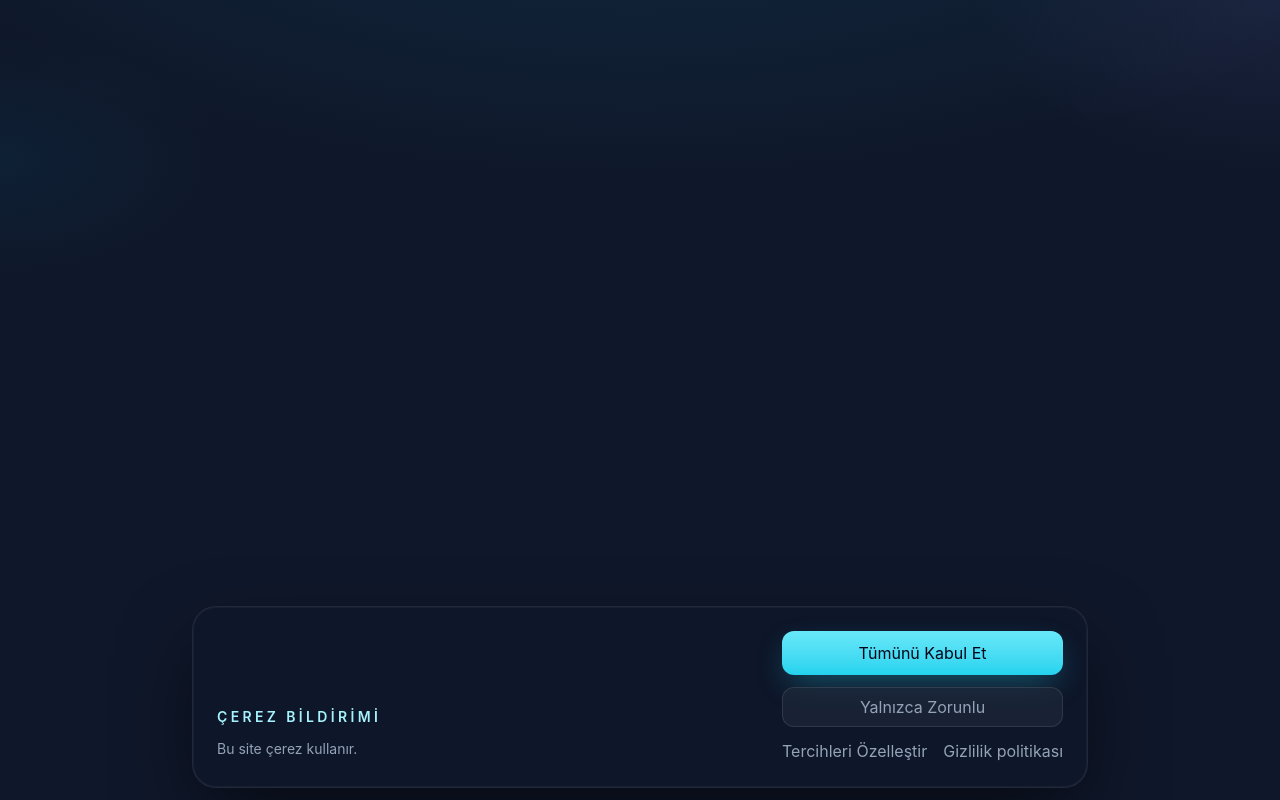
Scenario: CookieNotice — özelleştirme ekranı › "İptal" ana ekrana geri döner
This screenshot has width=1280, height=800.
Click the button "Tercihleri Özelleştir": point(855, 751) 782,739 -> 927,763
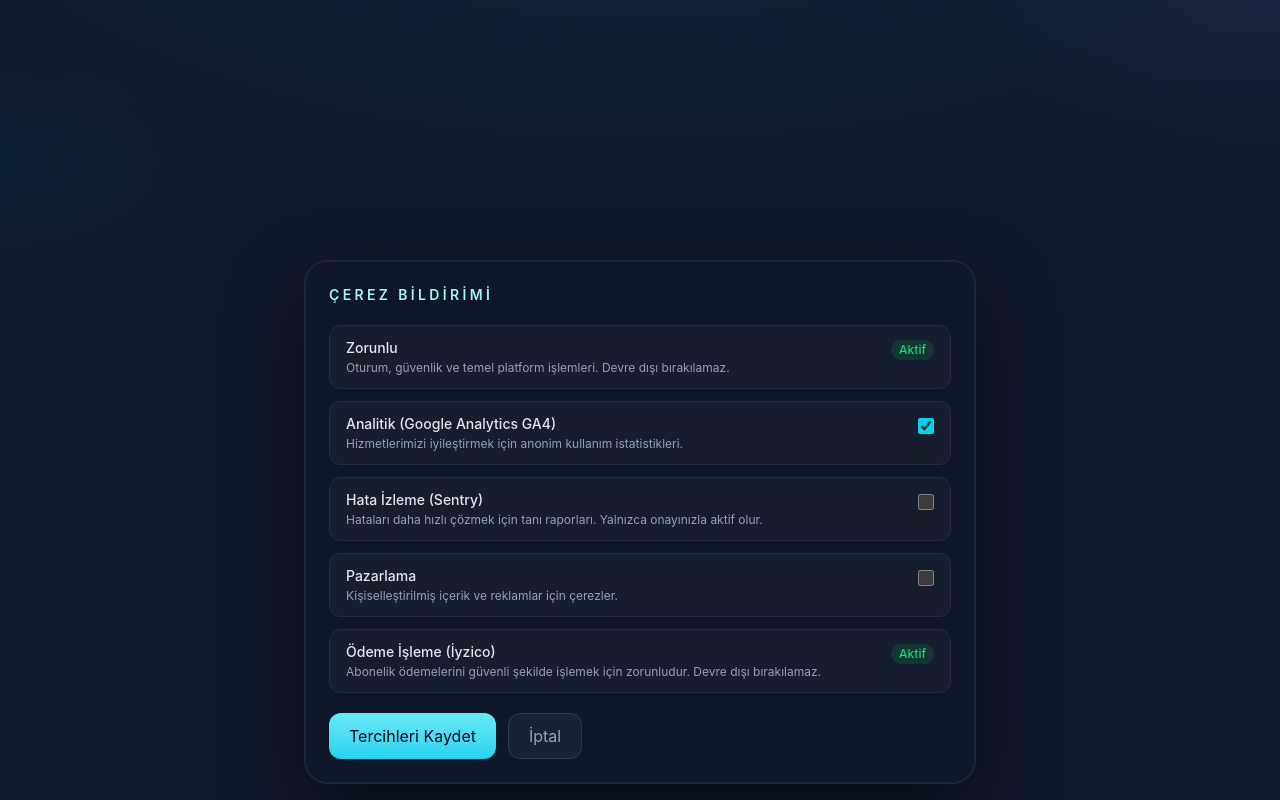
Click the button "İptal": point(545, 736) 508,713 -> 582,759
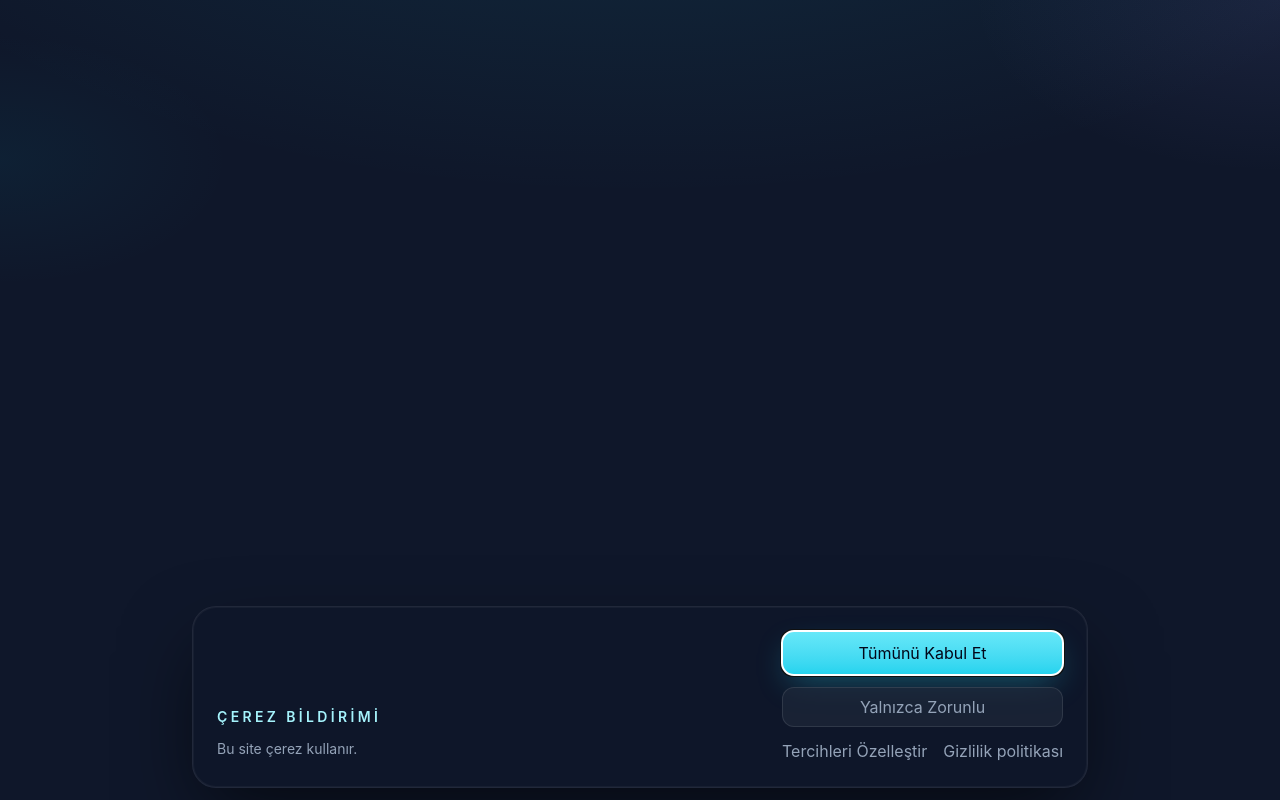
Expected: the button "Tümünü Kabul Et" is shown, 782,631 -> 1063,675
